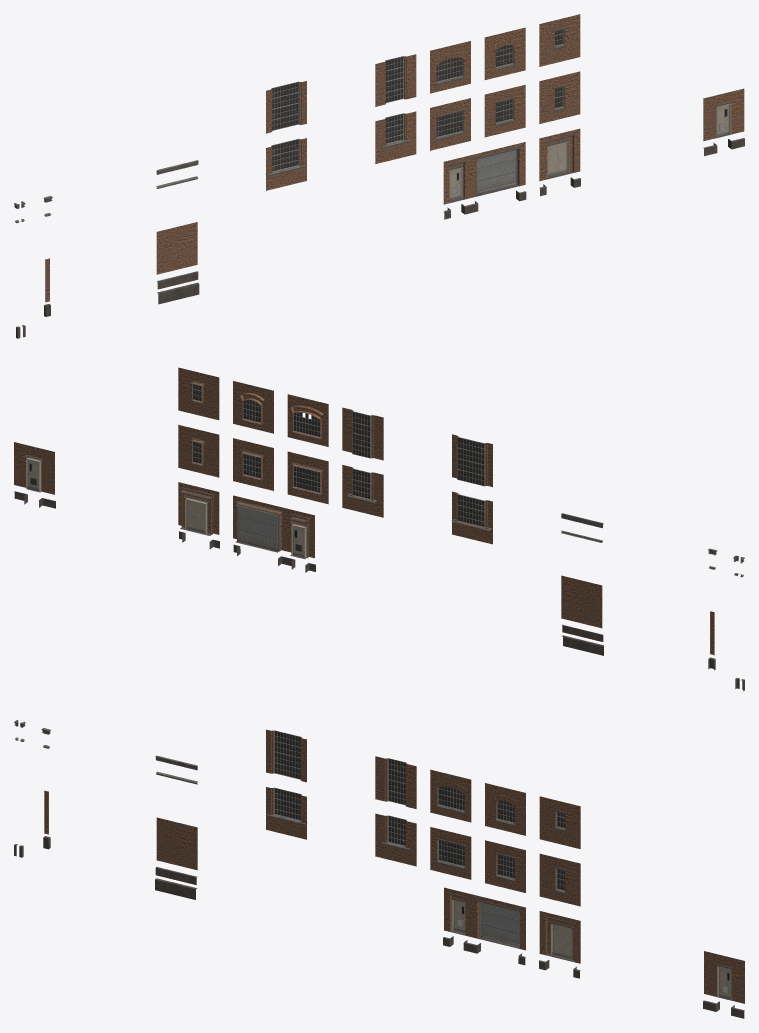
Rendered from facade_factory.glb.
The picture shows the model from 3 angles, top to bottom: view 1: azimuth 30°, elevation 25°; view 2: azimuth 150°, elevation 25°; view 3: azimuth 330°, elevation 25°; orthographic projection.
Visible parts, largest first — view 1: door_garage_door_01, wall_standard_standard_01, wall_window_centered_small_02, wall_window_centered_small_01, wall_door_garage_door_01, wall_window_centered_medium_02, wall_window_centered_medium_01, wall_door_centered_small_01, wall_window_tall_small_01, window_tall_large_02, wall_window_centered_large_02, wall_window_centered_large_01 (+12 smaller); view 2: door_garage_door_01, wall_standard_standard_01, wall_window_centered_small_02, wall_window_centered_small_01, wall_door_garage_door_01, wall_window_centered_medium_02, wall_window_centered_medium_01, wall_door_centered_small_01, wall_window_centered_large_02, wall_window_tall_small_01, wall_window_centered_large_01, window_tall_large_02 (+11 smaller); view 3: door_garage_door_01, wall_standard_standard_01, wall_window_centered_small_02, wall_window_centered_small_01, wall_door_garage_door_01, wall_window_centered_medium_02, wall_window_centered_medium_01, wall_window_tall_small_01, wall_door_centered_small_01, wall_window_centered_large_02, window_tall_large_02, wall_window_centered_large_01 (+12 smaller).
Part boxes in pixels (x1,y1,x2,y2): door_garage_door_01: (448,147,520,202); wall_standard_standard_01: (156,222,197,274); wall_window_centered_small_02: (539,14,580,66); wall_window_centered_small_01: (539,71,580,123); wall_door_garage_door_01: (443,142,525,204); wall_window_centered_medium_02: (484,27,525,79); wall_window_centered_medium_01: (484,84,525,137); wall_door_centered_small_01: (703,88,744,141); wall_window_tall_small_01: (375,111,416,163); window_tall_large_02: (272,81,299,130); wall_window_centered_large_02: (430,41,470,93); wall_window_centered_large_01: (430,98,470,150); door_garage_door_01: (235,500,310,559); wall_standard_standard_01: (561,575,602,628); wall_window_centered_small_02: (178,367,219,420); wall_window_centered_small_01: (178,425,219,477); wall_door_garage_door_01: (233,495,314,558); wall_window_centered_medium_02: (233,381,273,433); wall_window_centered_medium_01: (233,438,273,490); wall_door_centered_small_01: (14,442,54,494); wall_window_centered_large_02: (287,394,328,446); wall_window_tall_small_01: (342,465,383,517); wall_window_centered_large_01: (287,451,328,504); window_tall_large_02: (457,437,484,486); door_garage_door_01: (448,893,521,948); wall_standard_standard_01: (156,817,197,870); wall_window_centered_small_02: (539,796,580,848); wall_window_centered_small_01: (539,853,580,906); wall_door_garage_door_01: (444,887,525,950); wall_window_centered_medium_02: (485,783,525,835); wall_window_centered_medium_01: (485,840,525,892); wall_window_tall_small_01: (375,813,416,866); wall_door_centered_small_01: (704,951,744,1003); wall_window_centered_large_02: (430,769,471,822); window_tall_large_02: (273,730,300,779); wall_window_centered_large_01: (430,827,471,879).
Size of the model in its own units: 53.33 by 13 by 0.71.
6 materials, 6 textured.
